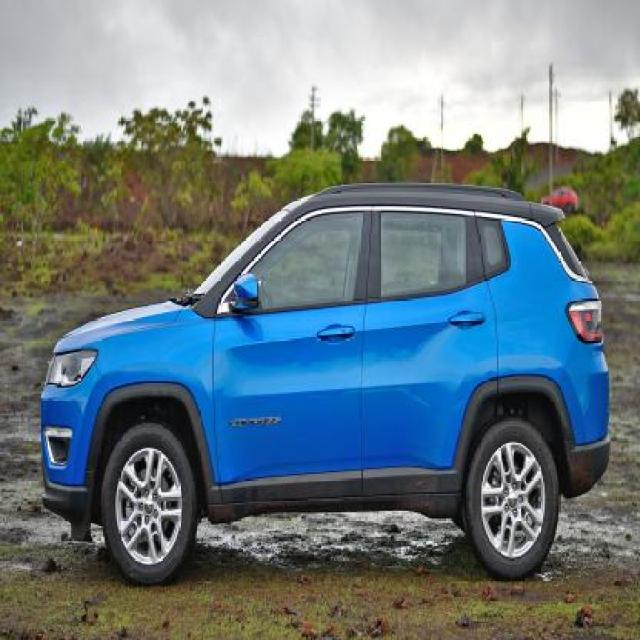Jeep: (39, 186, 612, 583)
